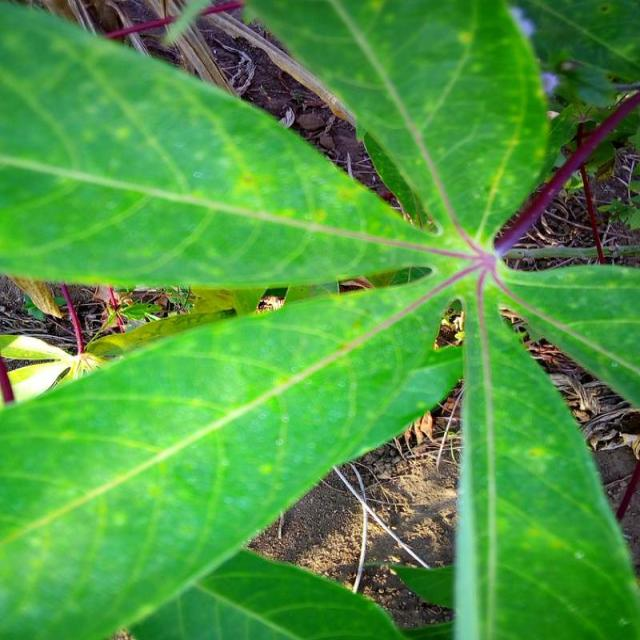cassava leaf: (0, 0, 638, 638), (0, 272, 464, 638), (0, 0, 448, 289)
